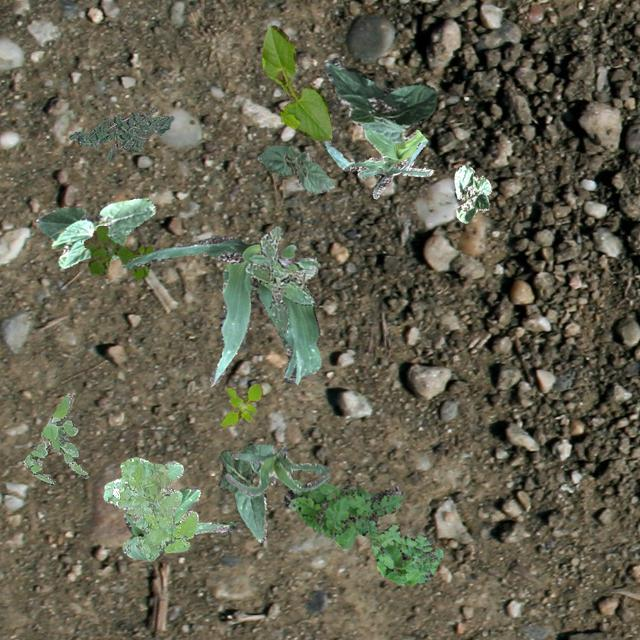crop: (122, 234, 320, 386), (322, 59, 438, 142), (36, 196, 154, 268), (260, 24, 332, 140), (323, 125, 431, 198), (122, 486, 236, 538), (218, 442, 274, 540), (224, 444, 330, 494), (256, 144, 332, 192), (454, 164, 491, 222)
weed: (102, 456, 198, 560), (284, 478, 402, 546), (244, 226, 316, 336), (22, 392, 88, 484), (68, 106, 172, 160), (370, 524, 442, 584), (83, 224, 151, 278), (218, 382, 262, 427), (248, 243, 318, 270)
